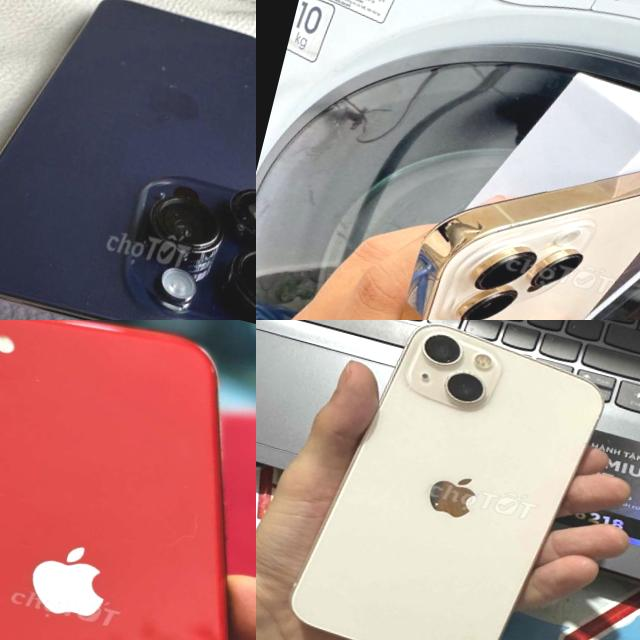scratch: (148, 50, 195, 96), (12, 363, 53, 392), (230, 64, 256, 108), (113, 42, 132, 70), (174, 9, 190, 27)
